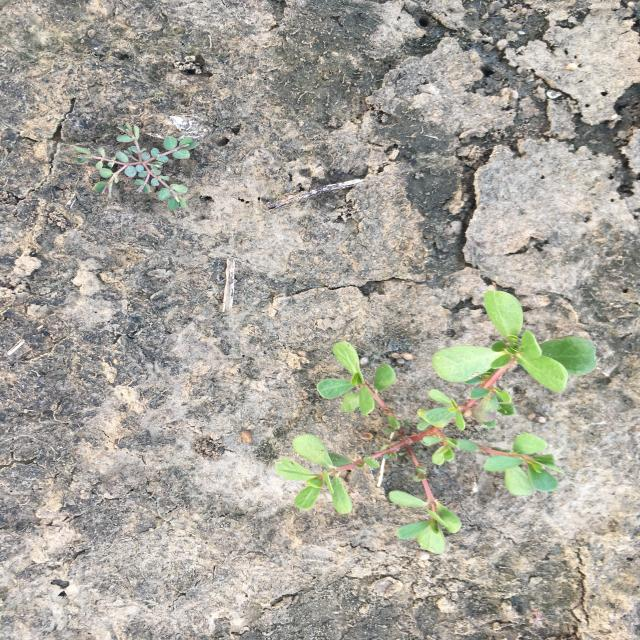Purslane: (272, 288, 601, 557)
SpottedSpurge: (71, 121, 203, 212)
